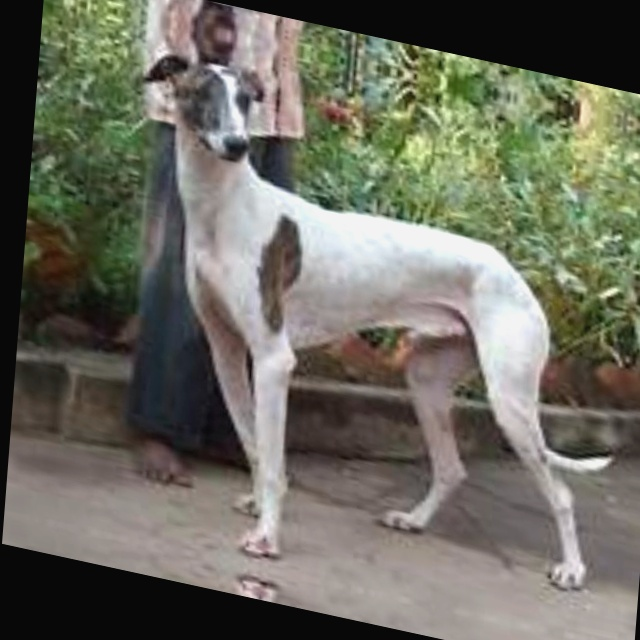dog: (132, 54, 631, 607)
